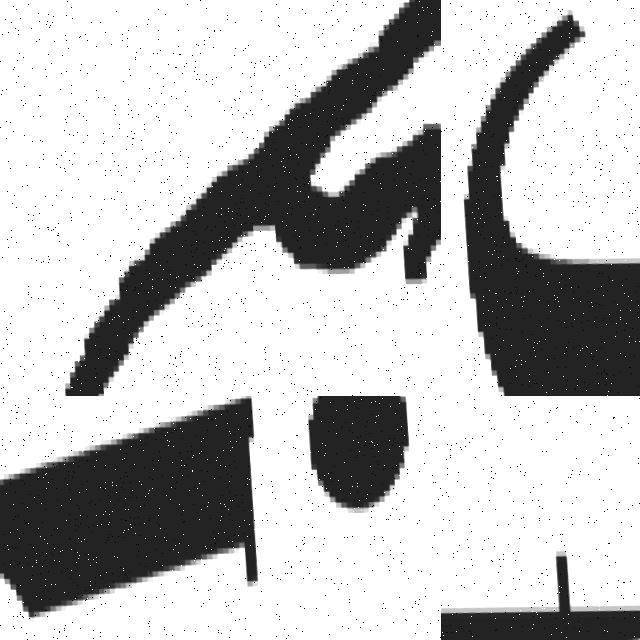C: (458, 7, 640, 396)
J: (0, 396, 441, 640)
T: (441, 495, 640, 640)
Y: (11, 0, 441, 396)
